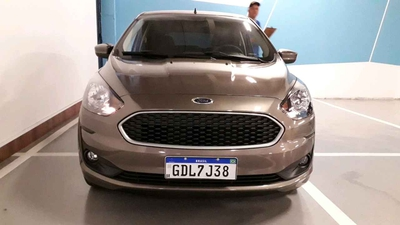Frontal Veiculo: (76, 14, 316, 197)
